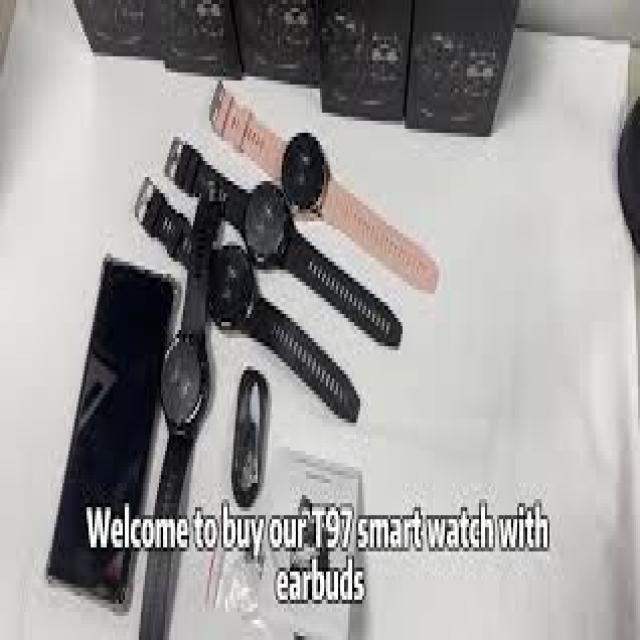objects: (207, 75, 441, 294), (167, 137, 402, 347), (153, 189, 219, 515), (139, 547, 179, 636)
